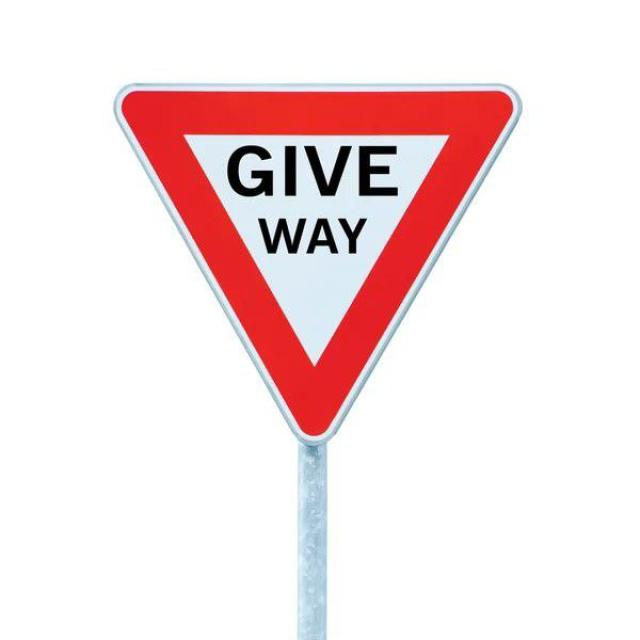giveway: (113, 81, 524, 448)
